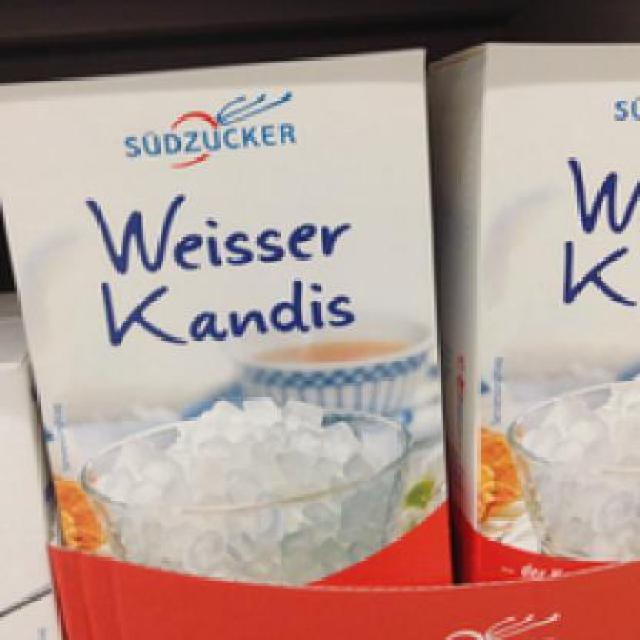Sugar: (0, 40, 452, 586), (432, 37, 634, 580)
